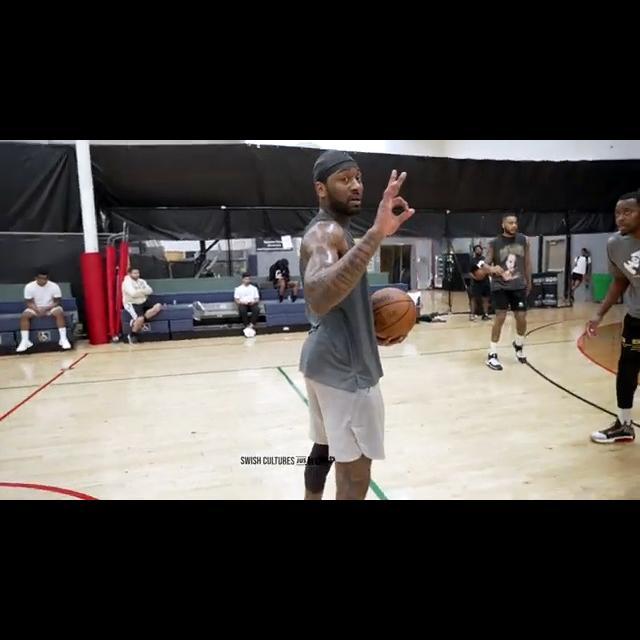basketball: (368, 287, 417, 341)
person: (278, 148, 416, 499), (583, 196, 640, 447), (485, 214, 529, 374), (11, 269, 70, 353), (118, 264, 164, 347), (467, 244, 493, 323), (230, 275, 261, 339), (565, 245, 593, 307), (266, 258, 300, 304)
